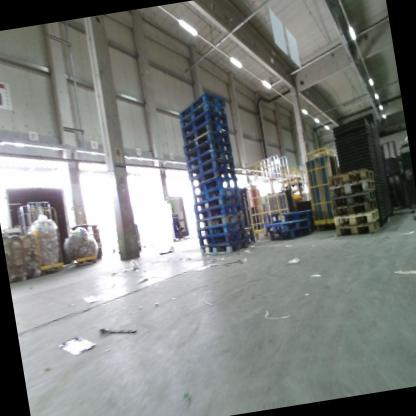pallet: (323, 163, 377, 191), (175, 87, 226, 115), (178, 107, 228, 135), (182, 127, 230, 153), (178, 99, 224, 126), (329, 185, 377, 210), (183, 136, 231, 161), (181, 117, 227, 143), (191, 172, 238, 197), (187, 154, 234, 179), (262, 214, 312, 237), (189, 164, 238, 187), (197, 229, 248, 250), (183, 148, 233, 169), (333, 216, 382, 237), (201, 237, 249, 258), (195, 210, 243, 231), (326, 178, 375, 198), (333, 208, 380, 228), (194, 202, 241, 222), (194, 186, 241, 206), (260, 206, 311, 224), (192, 193, 240, 212), (196, 222, 246, 240), (332, 199, 379, 218), (268, 226, 315, 242), (244, 233, 259, 247), (244, 225, 255, 238)
